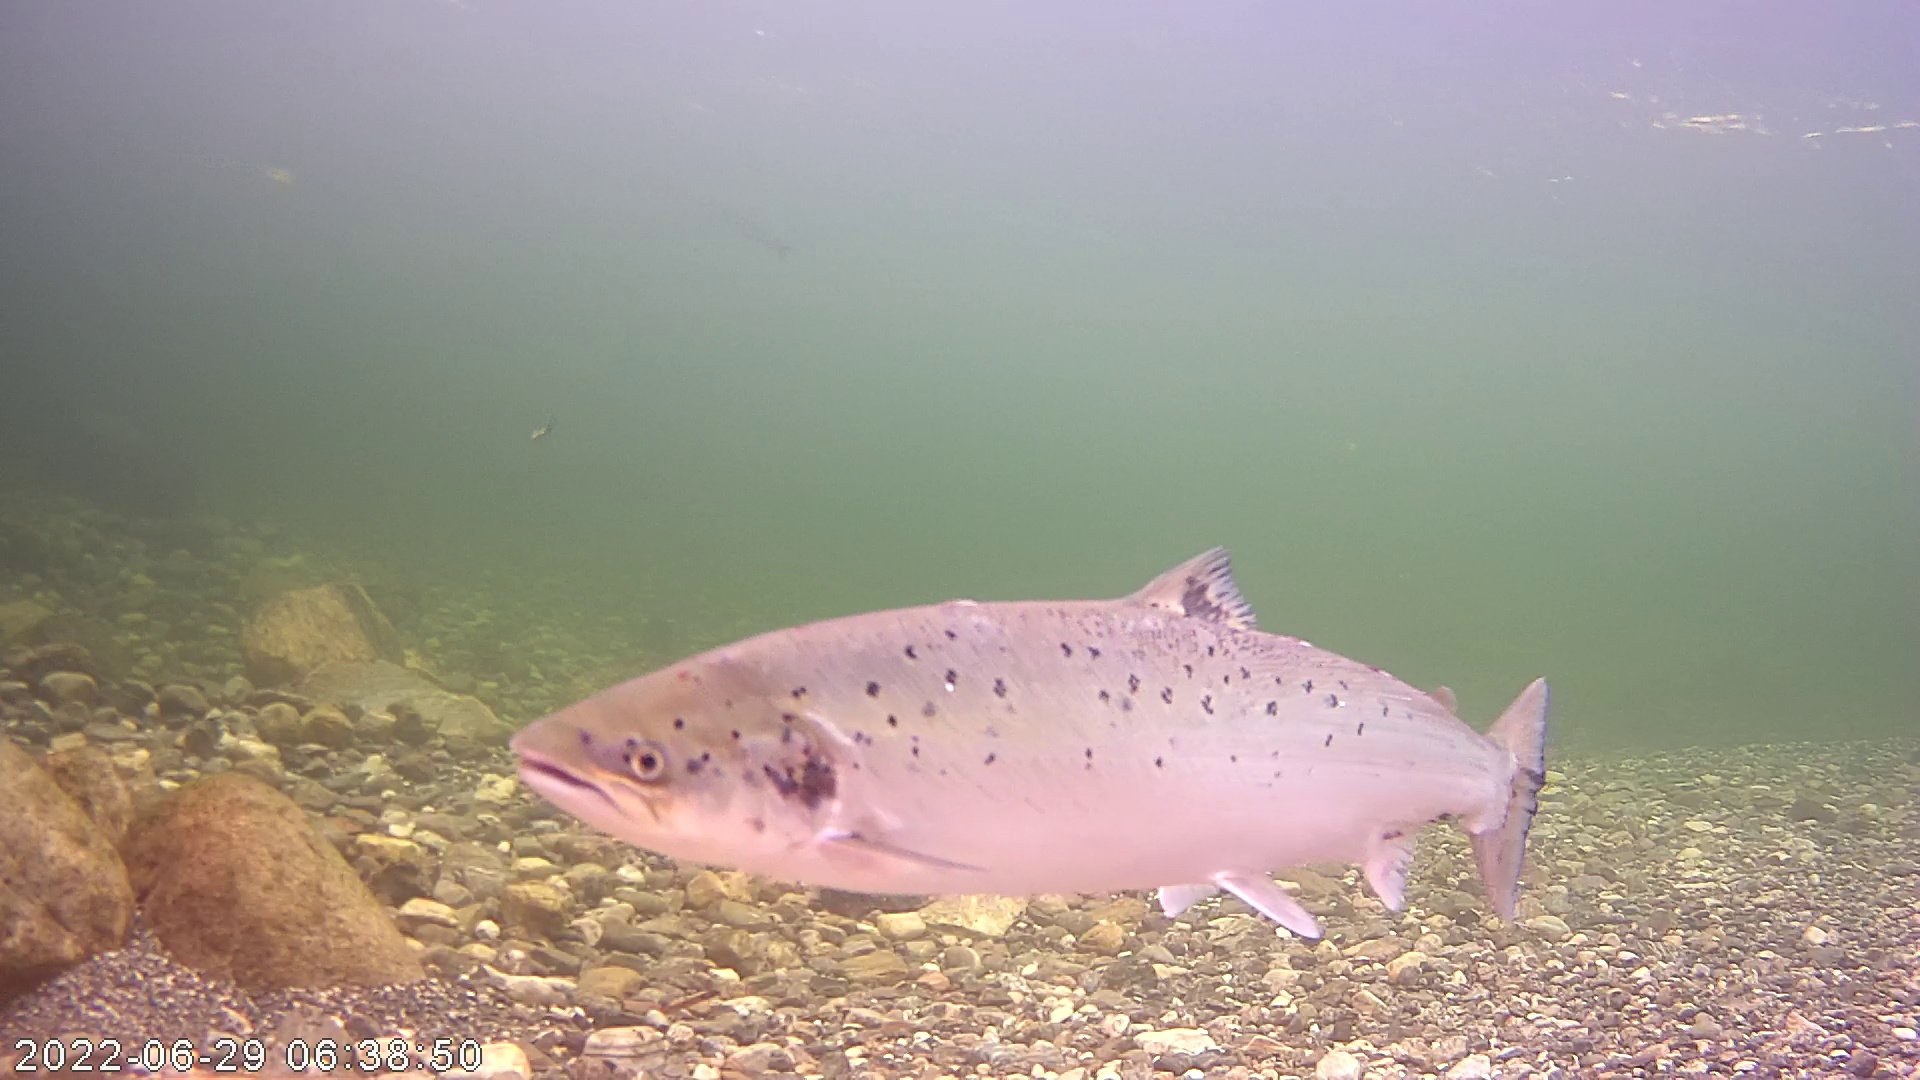salmon: (547, 451, 1565, 927)
